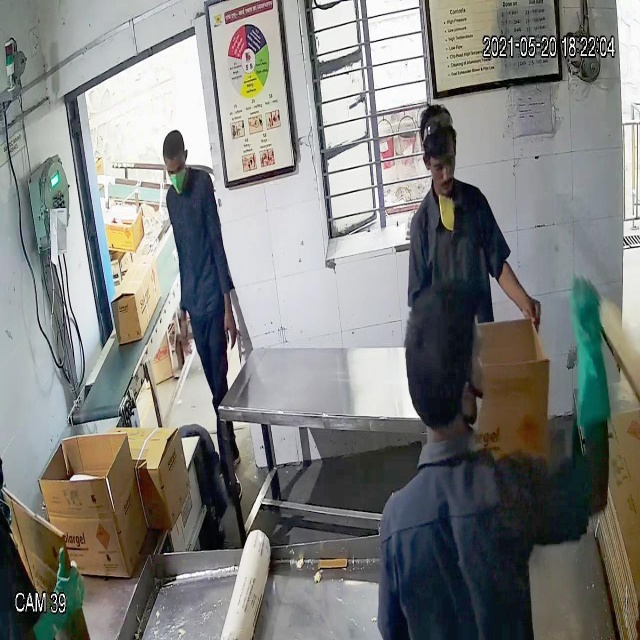Sin_gafas: (419, 144, 460, 179)
